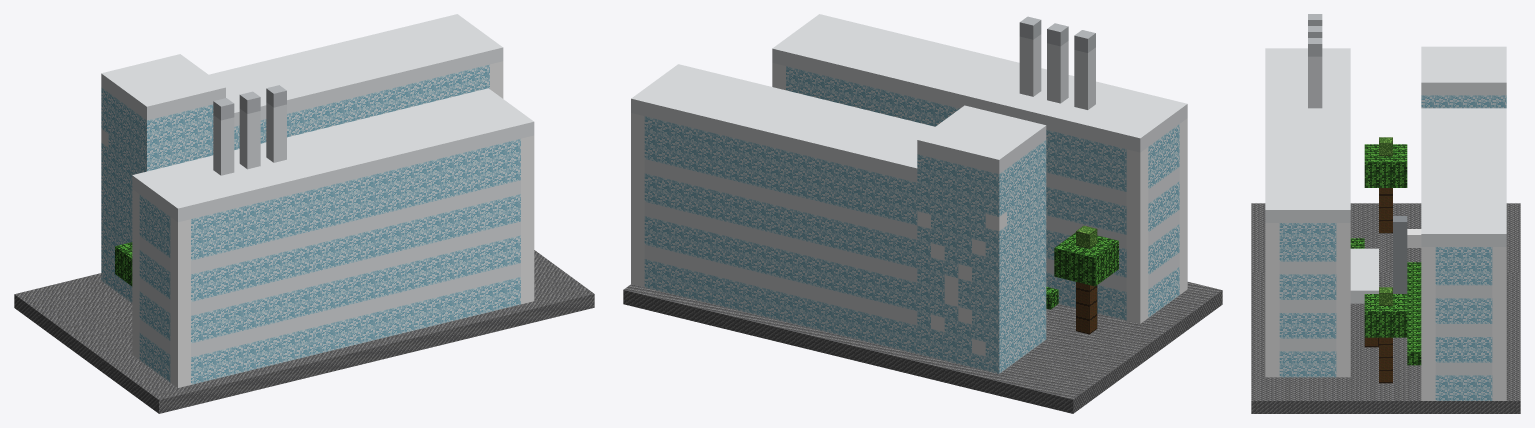
File: gibb.glb
3 views of the same model, side by side, from view 1: azimuth 30°, elevation 25°; view 2: azimuth 150°, elevation 25°; view 3: azimuth 270°, elevation 25° (orthographic). The views are drawn at different scales.
Visible parts, largest first — view 1: gibb; view 2: gibb; view 3: gibb.
Part boxes in pixels (x1,y1,x2,y2): gibb: (14, 14, 594, 413); gibb: (623, 14, 1222, 413); gibb: (1251, 14, 1520, 413).
Bounding box in the file's own units: 33 × 19 × 19.
Materials: 1 (1 with a texture image).
